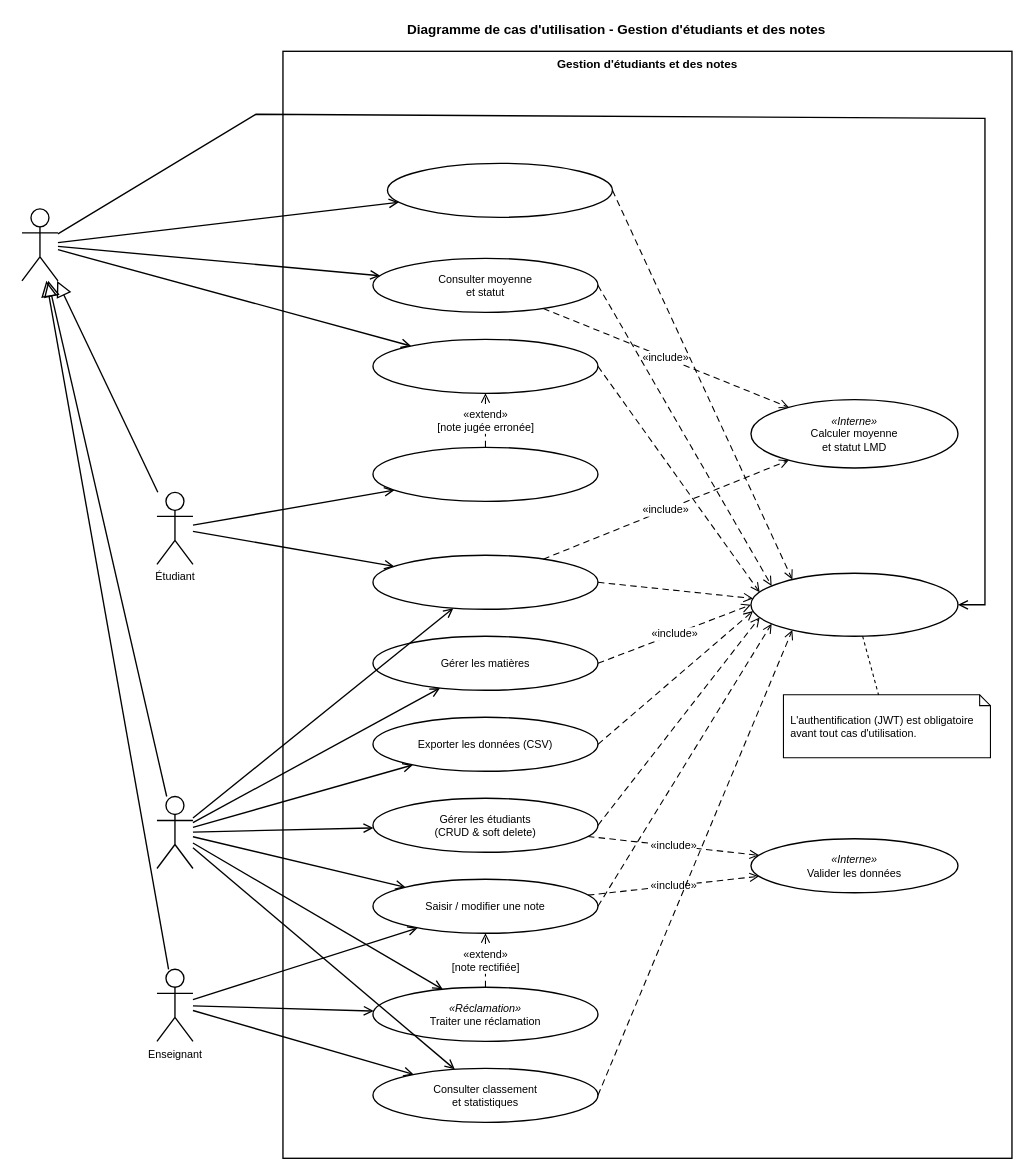
This 1029x1175 diagram has some shape labels left out. Here are the shapes that lost their labels. From the top down, the centre of each, then its label:
the point at 499,190: Interroger le service SOAP
the point at 39,244: Utilisateur authentifié
the point at 485,366: Consulter les notes
the point at 485,474: «Réclamation» Soumettre une réclamation
the point at 485,582: Télécharger le bulletin (PDF)
the point at 854,604: S'authentifier
the point at 174,832: Agent scolarité (Admin)
